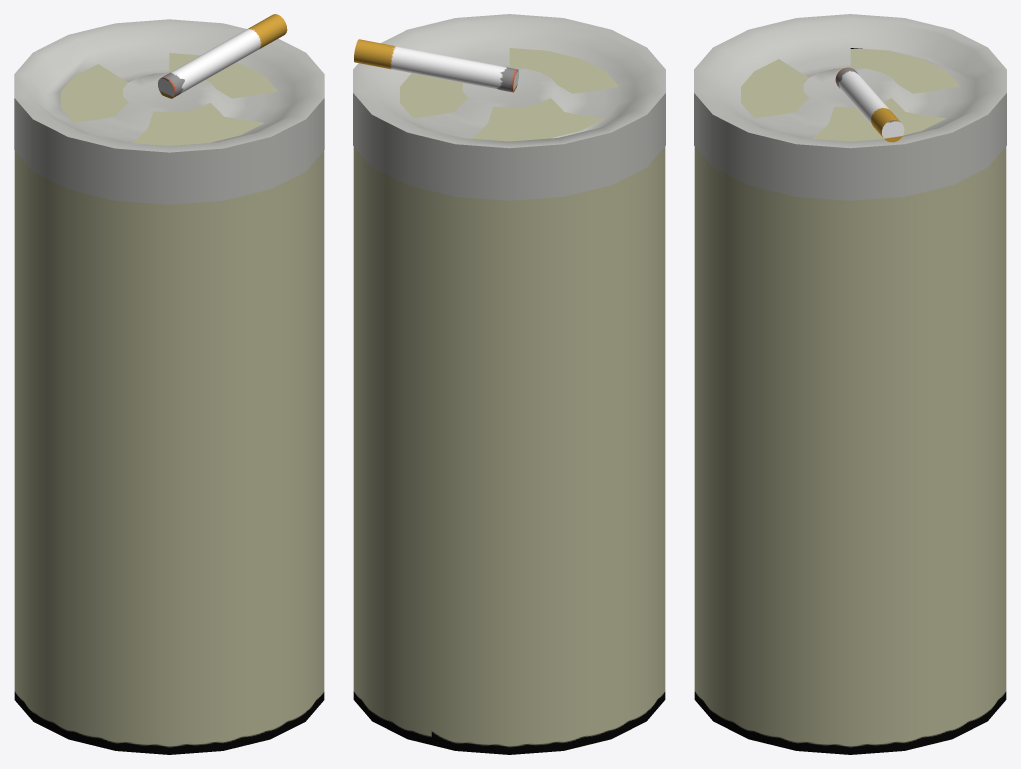
Rendered from Ashbin.FBX.
The picture shows the model from 3 angles, left to right: view 1: azimuth 30°, elevation 25°; view 2: azimuth 150°, elevation 25°; view 3: azimuth 270°, elevation 25°; orthographic projection.
Visible parts, largest first — view 1: Cylinder001, tray, Cylinder002; view 2: Cylinder001, tray, Cylinder002; view 3: Cylinder001, tray, Cylinder002.
Boxes of the visible parts, x1,y1,x2,y2 form: Cylinder001: (14, 53, 324, 754); tray: (14, 19, 324, 204); Cylinder002: (158, 14, 287, 98); Cylinder001: (353, 48, 665, 754); tray: (353, 14, 665, 200); Cylinder002: (354, 39, 518, 92); Cylinder001: (694, 48, 1006, 754); tray: (694, 14, 1006, 200); Cylinder002: (835, 67, 904, 142).
Bounding box in the file's own units: 40.12 × 88 × 39.51.
3 materials, 3 textured.
